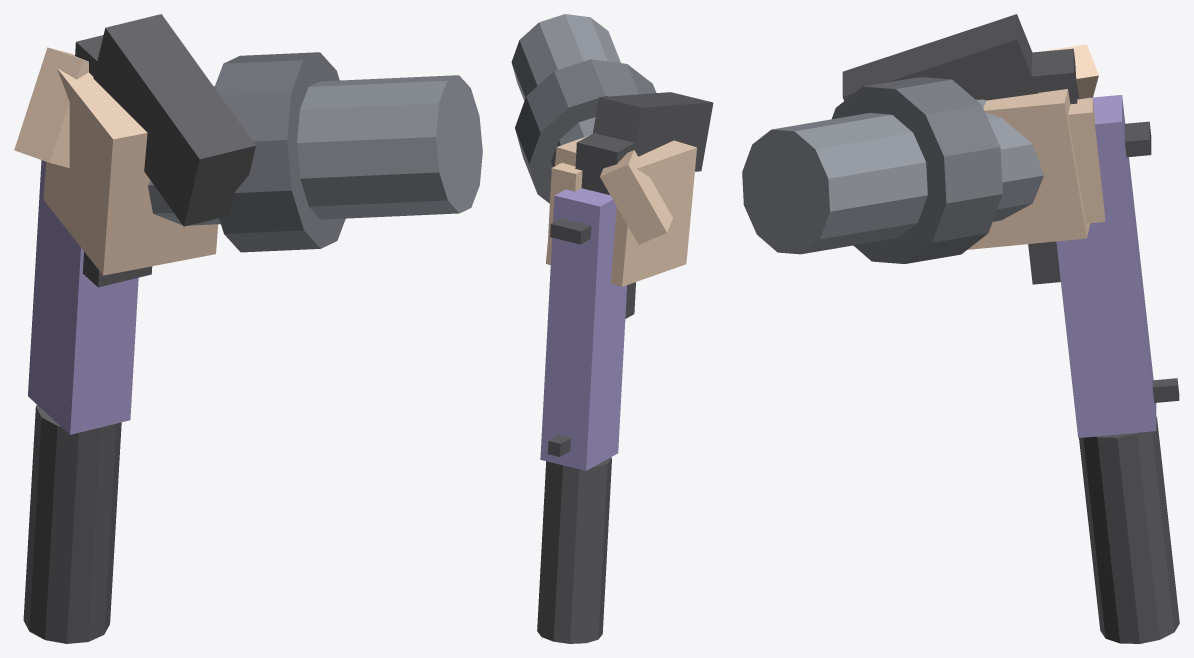
Rendered from fp_arm.glb.
The picture shows the model from 3 angles, left to right: view 1: azimuth 30°, elevation 25°; view 2: azimuth 150°, elevation 25°; view 3: azimuth 270°, elevation 25°; orthographic projection. The views are drawn at different scales.
Parts seen in each view (by area): view 1: forearm, fp_pistol_grip, fp_pistol_suppressor, fp_pistol_slide, fist, cuff, thumb, fp_pistol_frame; view 2: fp_pistol_slide, fp_pistol_suppressor, cuff, fist, fp_pistol_grip, forearm, thumb, fp_pistol_frame, trigger_finger, fp_pistol_sightR, fp_pistol_sightF; view 3: forearm, fp_pistol_slide, fp_pistol_suppressor, cuff, fist, fp_pistol_grip, fp_pistol_frame, trigger_finger, thumb, fp_pistol_sightR, fp_pistol_sightF.
Part boxes in pixels (<box>): forearm: <box>148,75,482,225</box>; fp_pistol_grip: <box>93,14,255,226</box>; fp_pistol_suppressor: <box>23,405,121,643</box>; fp_pistol_slide: <box>28,160,138,434</box>; fist: <box>43,68,217,275</box>; cuff: <box>214,52,345,252</box>; thumb: <box>14,47,88,167</box>; fp_pistol_frame: <box>75,35,152,287</box>; fp_pistol_slide: <box>540,188,626,470</box>; fp_pistol_suppressor: <box>537,457,611,643</box>; cuff: <box>515,59,656,203</box>; fist: <box>546,135,696,286</box>; fp_pistol_grip: <box>593,92,713,171</box>; forearm: <box>511,14,620,167</box>; thumb: <box>600,150,672,244</box>; fp_pistol_frame: <box>575,133,635,318</box>; trigger_finger: <box>547,162,582,262</box>; fp_pistol_sightR: <box>550,218,591,244</box>; fp_pistol_sightF: <box>547,435,570,456</box>; forearm: <box>742,99,1043,254</box>; fp_pistol_slide: <box>1056,95,1156,437</box>; fp_pistol_suppressor: <box>1079,417,1179,643</box>; cuff: <box>832,77,1002,263</box>; fist: <box>967,89,1089,249</box>; fp_pistol_grip: <box>842,14,1038,100</box>; fp_pistol_frame: <box>1028,48,1079,284</box>; trigger_finger: <box>1068,98,1104,223</box>; thumb: <box>1046,44,1098,98</box>; fp_pistol_sightR: <box>1124,121,1151,157</box>; fp_pistol_sightF: <box>1152,378,1179,402</box>.
Bounding box in the file's own units: 0.2503 × 0.4667 × 0.3065.
